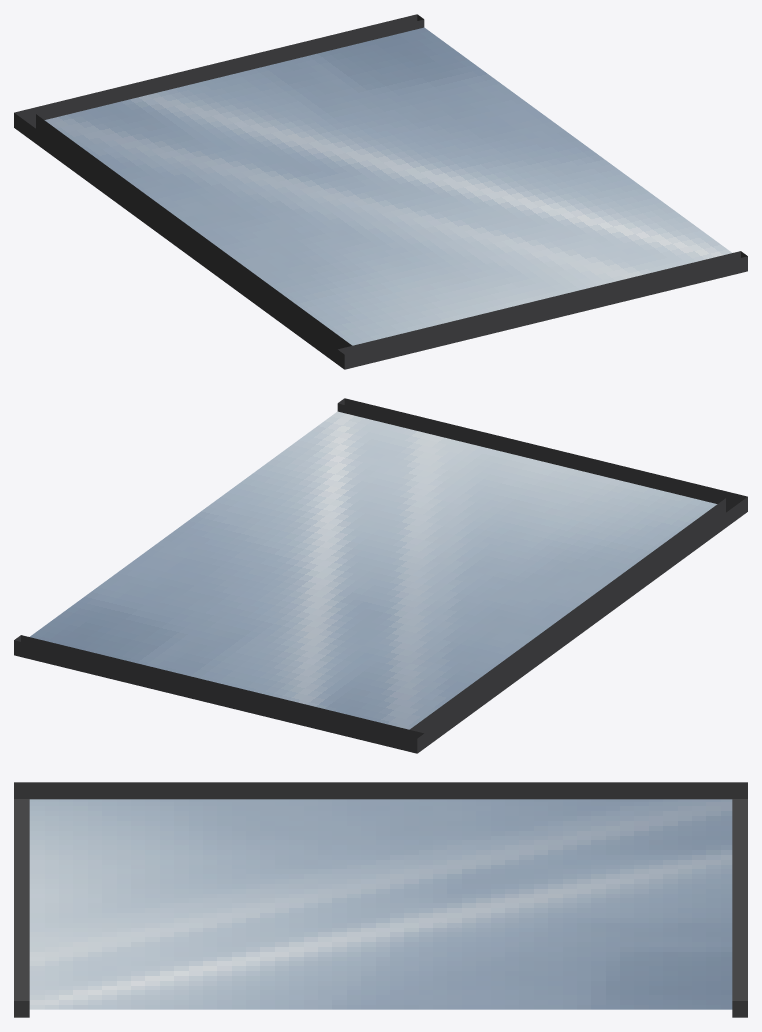
Rendered from keep-wd01_58.obj.
3 views of the same model, one above another, from view 1: azimuth 30°, elevation 25°; view 2: azimuth 150°, elevation 25°; view 3: azimuth 270°, elevation 25° (orthographic). The views are drawn at different scales.
Size of the model in its own units: 0.8359 by 0.03 by 1.19.
Materials: 1 (1 with a texture image).
